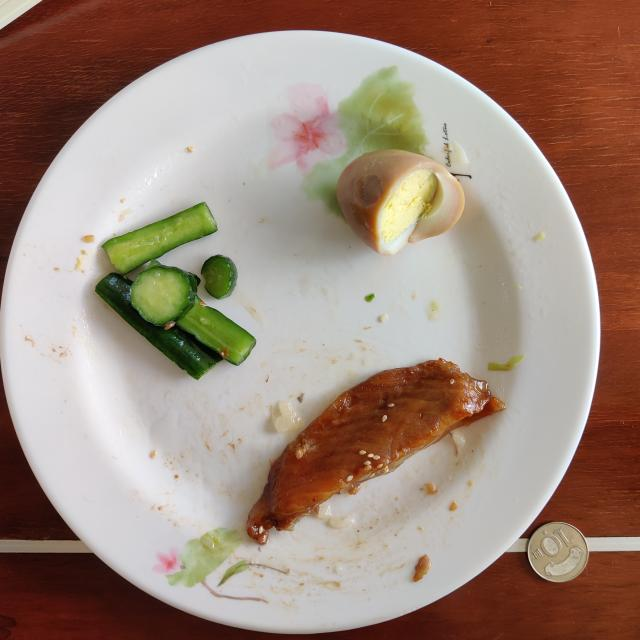Kabayaki sea bream fillet: (246, 359, 505, 544)
coin: (528, 522, 589, 582)
cucumber: (95, 202, 256, 379), (201, 255, 238, 299)
soy egg: (336, 149, 465, 255)
